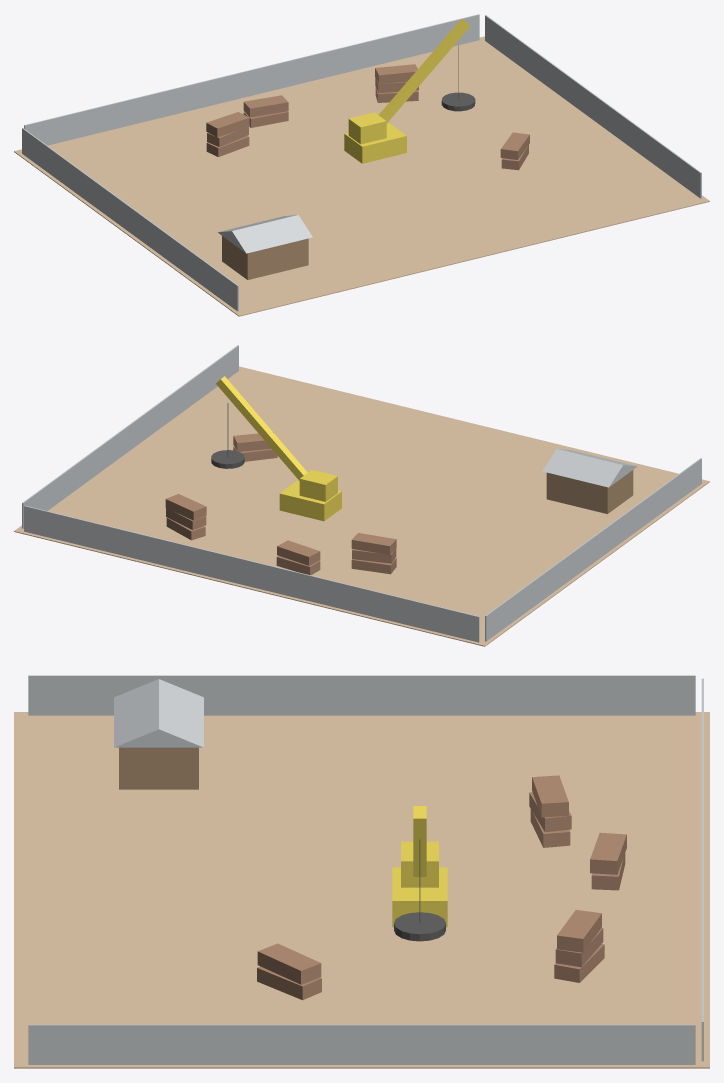
Rendered from old_joe_junkyard.glb.
3 views of the same model, one above another, from view 1: azimuth 30°, elevation 25°; view 2: azimuth 150°, elevation 25°; view 3: azimuth 270°, elevation 25° (orthographic). The views are drawn at different scales.
Visible parts, largest first — view 1: Old_Joe_Junkyard_lot, Old_Joe_Junkyard_fence_b, Old_Joe_Junkyard_fence_l, Old_Joe_Junkyard_fence_r, Old_Joe_Junkyard_shack, Old_Joe_Junkyard_shack_roof, Old_Joe_Junkyard_boom, Old_Joe_Junkyard_crane_base, Old_Joe_Junkyard_crane_cab, Old_Joe_Junkyard_car_pile_-2_17_1.8, Old_Joe_Junkyard_car_pile_-9_13_2.9, Old_Joe_Junkyard_car_pile_13_15_2.9 (+2 smaller); view 2: Old_Joe_Junkyard_lot, Old_Joe_Junkyard_fence_b, Old_Joe_Junkyard_fence_l, Old_Joe_Junkyard_fence_r, Old_Joe_Junkyard_shack, Old_Joe_Junkyard_shack_roof, Old_Joe_Junkyard_boom, Old_Joe_Junkyard_crane_base, Old_Joe_Junkyard_crane_cab, Old_Joe_Junkyard_car_pile_-9_13_2.9, Old_Joe_Junkyard_car_pile_-2_17_1.8, Old_Joe_Junkyard_car_pile_13_15_2.9 (+4 smaller); view 3: Old_Joe_Junkyard_lot, Old_Joe_Junkyard_fence_r, Old_Joe_Junkyard_fence_l, Old_Joe_Junkyard_shack_roof, Old_Joe_Junkyard_shack, Old_Joe_Junkyard_crane_base, Old_Joe_Junkyard_car_pile_16_-5_1.8, Old_Joe_Junkyard_car_pile_13_15_2.9, Old_Joe_Junkyard_crane_cab, Old_Joe_Junkyard_electromagnet, Old_Joe_Junkyard_car_pile_-9_13_2.9, Old_Joe_Junkyard_car_pile_-2_17_1.8 (+7 smaller).
Boxes of the visible parts, <box> form: Old_Joe_Junkyard_lot: <box>14,36,709,316</box>; Old_Joe_Junkyard_fence_b: <box>24,14,479,145</box>; Old_Joe_Junkyard_fence_l: <box>22,128,238,311</box>; Old_Joe_Junkyard_fence_r: <box>485,15,701,198</box>; Old_Joe_Junkyard_shack: <box>222,236,308,279</box>; Old_Joe_Junkyard_shack_roof: <box>218,215,312,253</box>; Old_Joe_Junkyard_boom: <box>378,18,470,123</box>; Old_Joe_Junkyard_crane_base: <box>344,123,406,163</box>; Old_Joe_Junkyard_crane_cab: <box>348,112,386,144</box>; Old_Joe_Junkyard_car_pile_-2_17_1.8: <box>243,95,288,117</box>; Old_Joe_Junkyard_car_pile_-9_13_2.9: <box>206,112,249,137</box>; Old_Joe_Junkyard_car_pile_13_15_2.9: <box>375,64,417,84</box>; Old_Joe_Junkyard_lot: <box>14,366,709,646</box>; Old_Joe_Junkyard_fence_b: <box>24,505,479,642</box>; Old_Joe_Junkyard_fence_l: <box>485,458,701,641</box>; Old_Joe_Junkyard_fence_r: <box>22,345,238,528</box>; Old_Joe_Junkyard_shack: <box>546,470,633,513</box>; Old_Joe_Junkyard_shack_roof: <box>542,449,637,487</box>; Old_Joe_Junkyard_boom: <box>216,376,307,480</box>; Old_Joe_Junkyard_crane_base: <box>279,480,341,521</box>; Old_Joe_Junkyard_crane_cab: <box>299,470,337,501</box>; Old_Joe_Junkyard_car_pile_-9_13_2.9: <box>351,533,396,554</box>; Old_Joe_Junkyard_car_pile_-2_17_1.8: <box>277,540,320,565</box>; Old_Joe_Junkyard_car_pile_13_15_2.9: <box>165,494,206,520</box>; Old_Joe_Junkyard_lot: <box>14,712,709,1068</box>; Old_Joe_Junkyard_fence_r: <box>28,1024,695,1064</box>; Old_Joe_Junkyard_fence_l: <box>28,675,695,715</box>; Old_Joe_Junkyard_shack_roof: <box>114,679,203,747</box>; Old_Joe_Junkyard_shack: <box>119,747,198,789</box>; Old_Joe_Junkyard_crane_base: <box>392,867,447,927</box>; Old_Joe_Junkyard_car_pile_16_-5_1.8: <box>257,943,321,984</box>; Old_Joe_Junkyard_car_pile_13_15_2.9: <box>557,910,601,952</box>; Old_Joe_Junkyard_crane_cab: <box>401,841,438,887</box>; Old_Joe_Junkyard_electromagnet: <box>394,912,445,941</box>; Old_Joe_Junkyard_car_pile_-9_13_2.9: <box>532,775,568,817</box>; Old_Joe_Junkyard_car_pile_-2_17_1.8: <box>590,832,626,874</box>.
Size of what is drawn, in the model's own units: 58 by 13.38 by 48.
